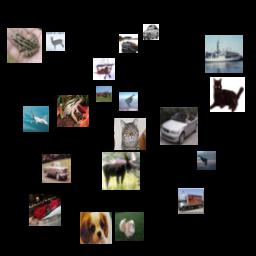airplane: (23, 106, 49, 132), (93, 58, 115, 80), (119, 92, 138, 111), (197, 151, 216, 170), (96, 86, 112, 102)
automobile: (160, 107, 198, 145), (29, 194, 61, 226), (42, 154, 71, 183), (143, 24, 159, 40)
cat: (210, 77, 245, 112), (114, 118, 146, 150)
deer: (102, 152, 140, 190), (46, 32, 65, 51)
dog: (80, 212, 112, 244), (115, 212, 144, 241)
frog: (7, 28, 42, 63), (57, 95, 89, 127)
ship: (205, 35, 243, 73), (119, 34, 138, 53)
truck: (178, 188, 204, 214)
